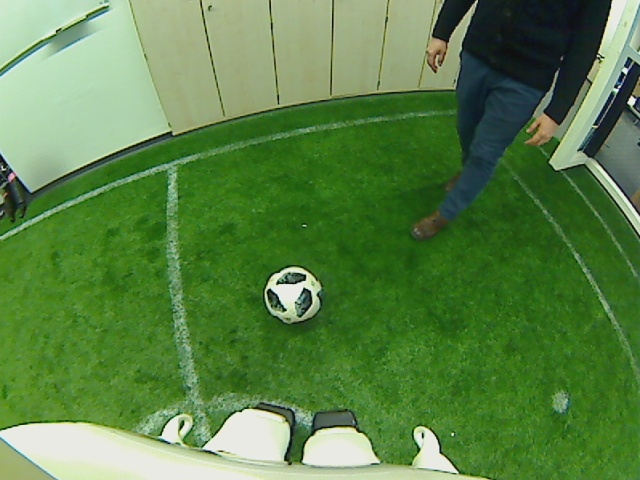ball: (262, 264, 323, 323)
